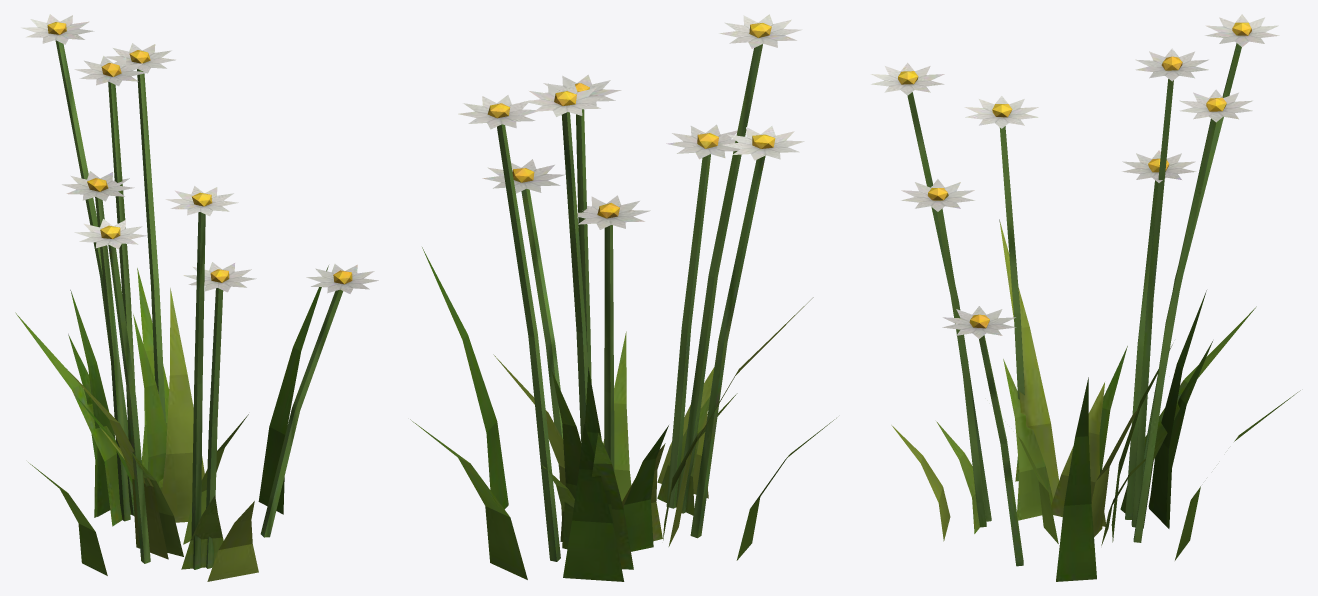
The model's file is flowers_daisy_idle.glb.
3 views of the same model, side by side, from view 1: azimuth 30°, elevation 25°; view 2: azimuth 150°, elevation 25°; view 3: azimuth 270°, elevation 25° (orthographic). The views are drawn at different scales.
Parts seen in each view (by area): view 1: flowers_daisy; view 2: flowers_daisy; view 3: flowers_daisy.
Part boxes in pixels (box(x1,y1,x2,y2)): flowers_daisy: box(15, 14, 378, 581); flowers_daisy: box(410, 14, 836, 581); flowers_daisy: box(870, 14, 1300, 581).
Size of the model in its own units: 0.311 by 0.4077 by 0.3279.
1 material, 1 textured.
